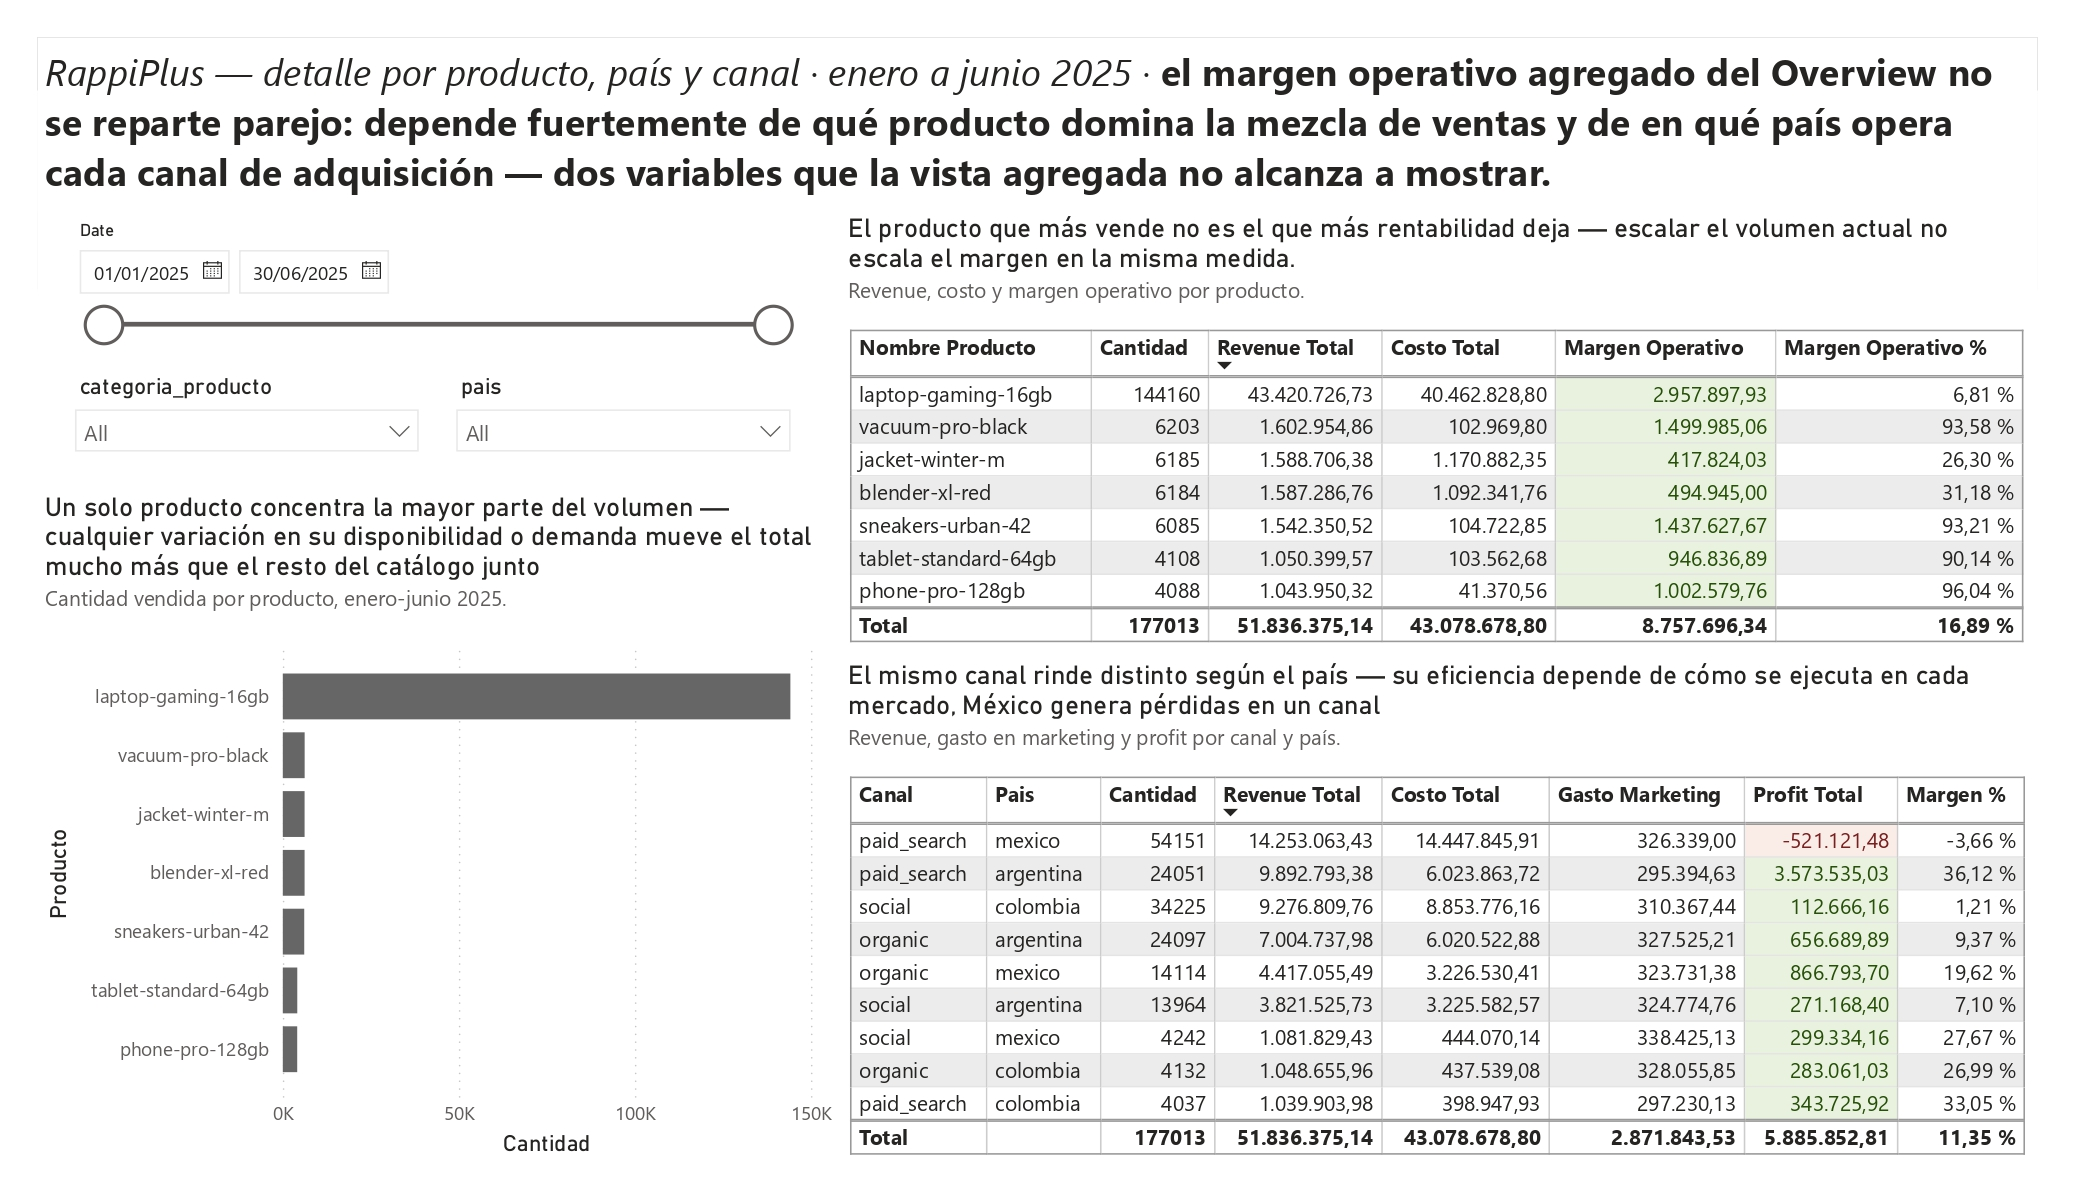

The page's visual inventory and layout, read from the dashboard file:
{"tool":"powerbi","page":{"name":"Detalle","canvas":[1280,720],"ordinal":1},"visuals":[{"type":"slicer","fields":{"Values":["dim_fecha.Date"]},"box":[14,112,478,98],"z":0},{"type":"slicer","fields":{"Values":["orders_clean.pais"]},"box":[258,210,234,80],"z":1},{"type":"slicer","fields":{"Values":["catalog_clean.categoria_producto"]},"box":[14,210,240,80],"z":2},{"type":"tableEx","title":"El producto que más vende no es el que más rentabilidad deja — escalar el volumen actual no escala el margen en la misma medida.","fields":{"Values":["catalog_clean.nombre_producto","Sum(orders_clean.cantidad)","Medidas.Revenue Total","Medidas.Costo Total","Medidas.Profit Total","Medidas.Margen %"]},"box":[514,112,766,286],"z":3},{"type":"tableEx","title":"El mismo canal rinde distinto según el país — su eficiencia depende de cómo se ejecuta en cada mercado, México genera pérdidas en un canal","fields":{"Values":["orders_clean.canal","orders_clean.pais","Sum(orders_clean.cantidad)","Medidas.Revenue Total","Medidas.Costo Total","Medidas.Gasto Marketing Agrupado","Medidas.Profit Total","Medidas.Margen %"]},"box":[514,398,766,322],"z":4},{"type":"clusteredBarChart","title":"Un solo producto concentra la mayor parte del volumen — cualquier variación en su disponibilidad o demanda mueve el total mucho más que el resto del catálogo junto","fields":{"Category":["catalog_clean.nombre_producto"],"Y":["Sum(orders_clean.cantidad)"]},"box":[0,290,514,430],"z":5},{"type":"actionButton","box":[0,0,100,40],"z":6},{"type":"textbox","box":[0,0,1280,112],"z":7}]}

Visuals, with their boxes on the page's 1280x720 design canvas (x1, y1, x2, y2). These are canvas units, not pixel positions in the 2075x1200 screenshot, which may show the page scaled, cropped or inside an application window:
slicer - dim_fecha.Date: region(14, 112, 492, 210)
slicer - orders_clean.pais: region(258, 210, 492, 290)
slicer - catalog_clean.categoria_producto: region(14, 210, 254, 290)
"El producto que más vende no es el que más rentabilidad deja — escalar el volumen actual no escala el margen en la misma medida." tableEx: region(514, 112, 1280, 398)
"El mismo canal rinde distinto según el país — su eficiencia depende de cómo se ejecuta en cada mercado, México genera pérdidas en un canal" tableEx: region(514, 398, 1280, 720)
"Un solo producto concentra la mayor parte del volumen — cualquier variación en su disponibilidad o demanda mueve el total mucho más que el resto del catálogo junto" clusteredBarChart: region(0, 290, 514, 720)
actionButton: region(0, 0, 100, 40)
textbox: region(0, 0, 1280, 112)
